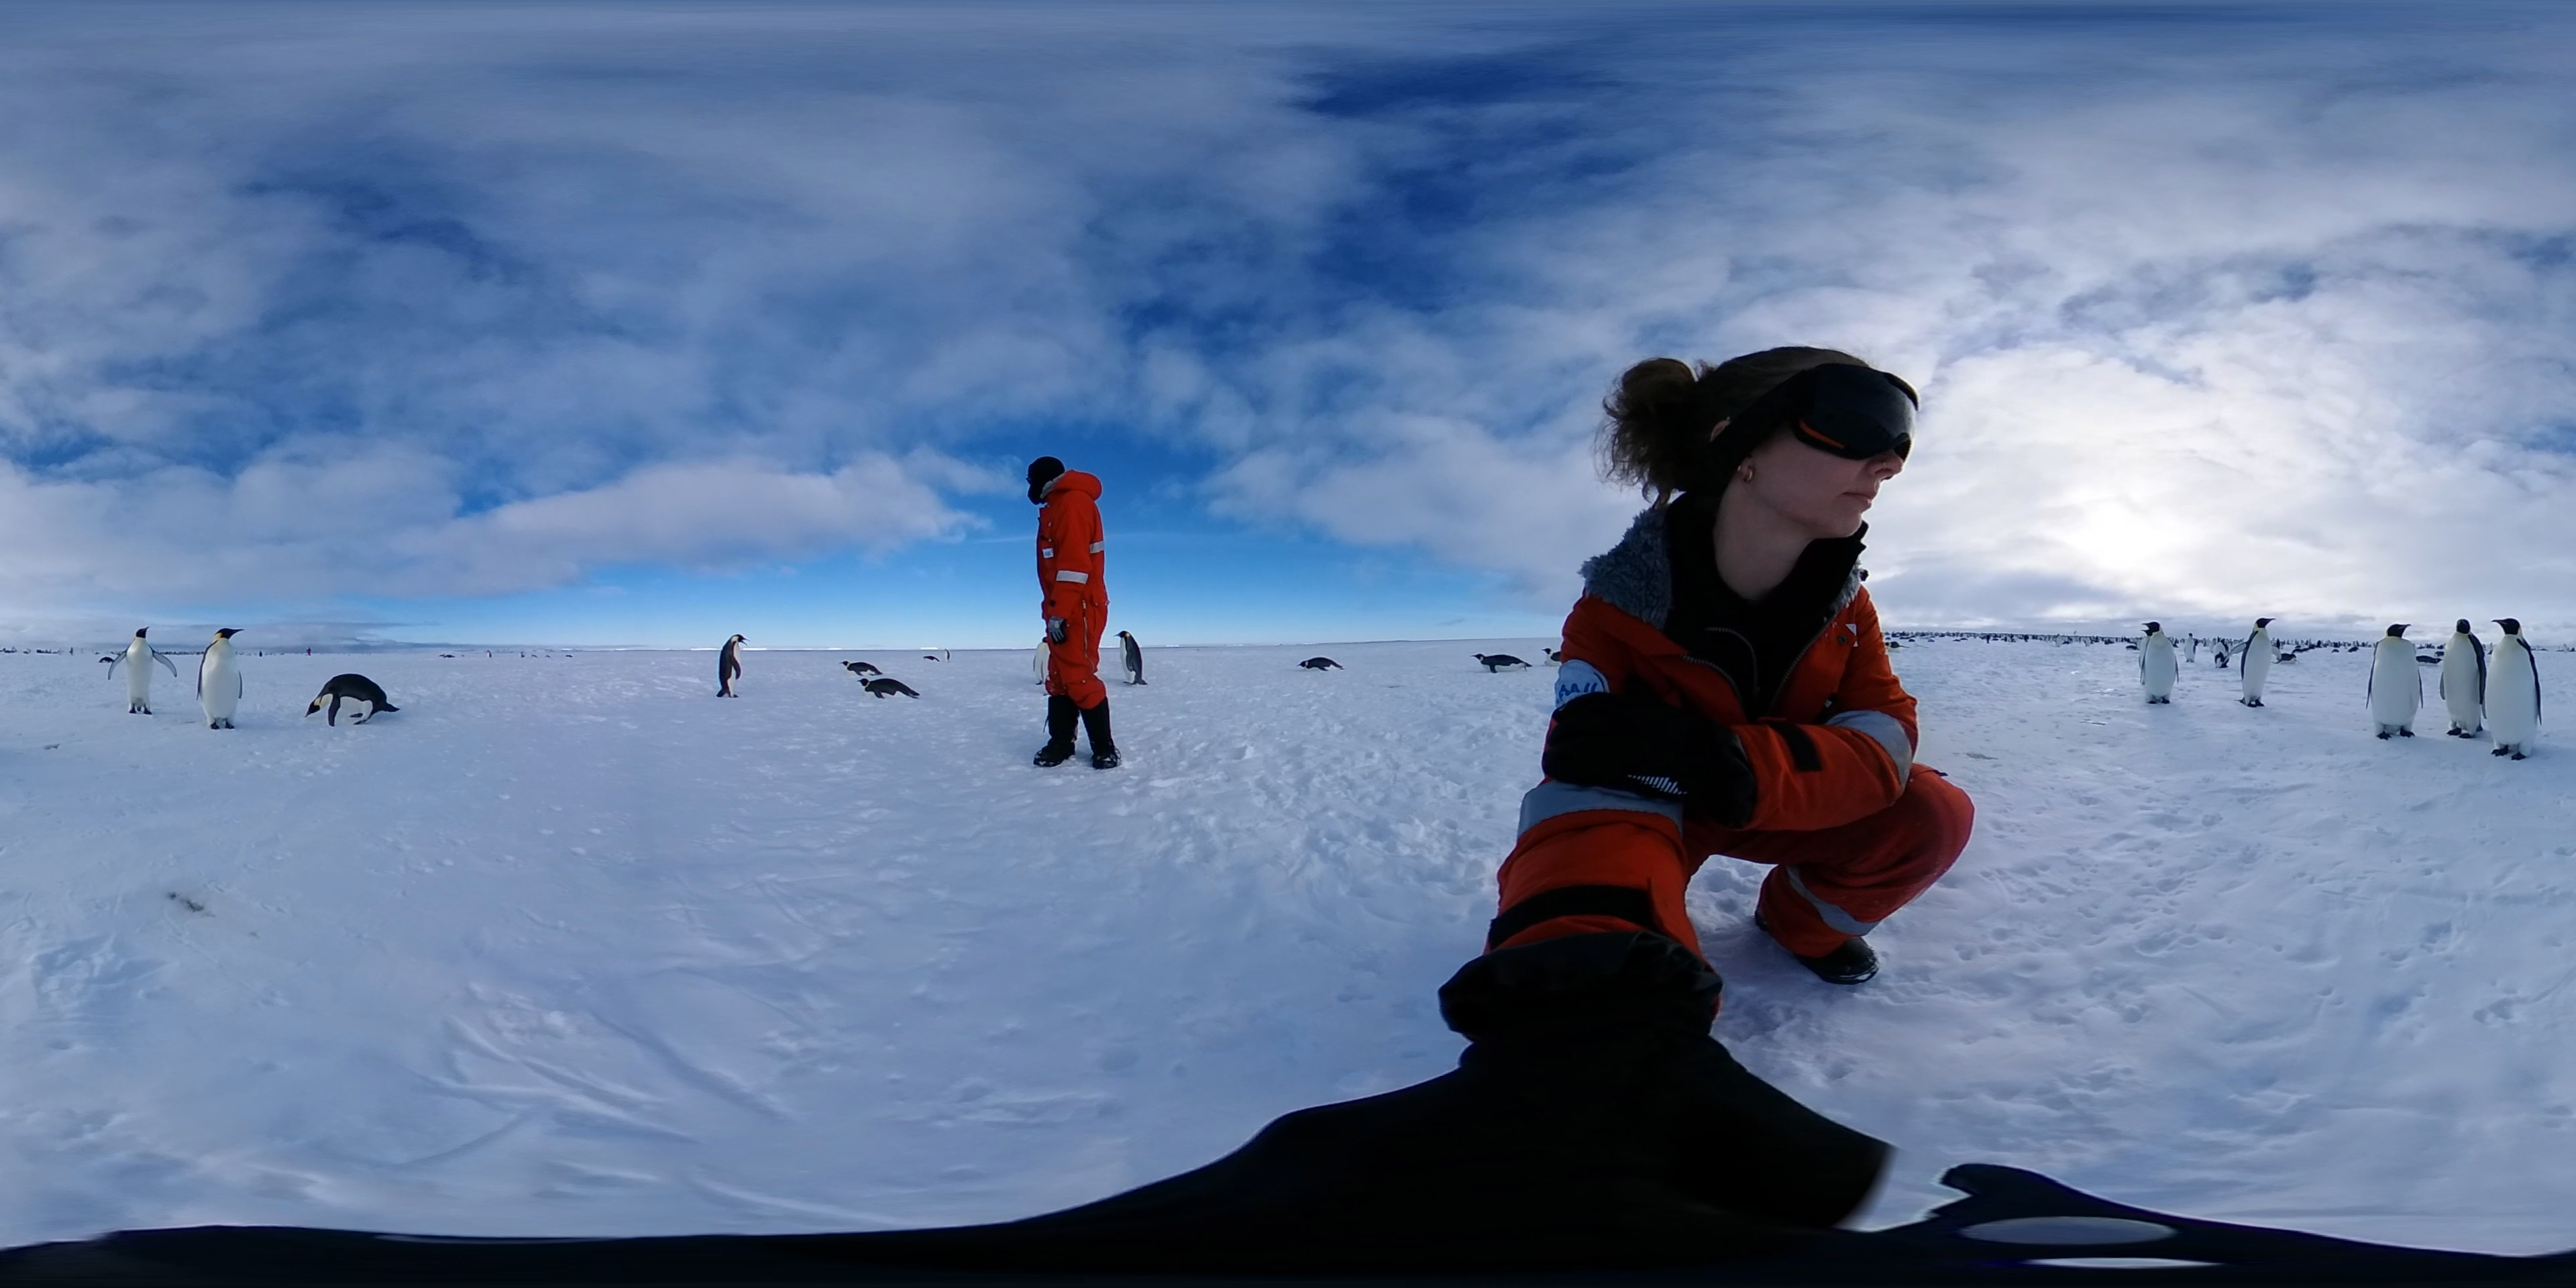adult_standing_penguin: (2477, 611, 2548, 762), (2435, 618, 2495, 741), (105, 624, 181, 718), (2366, 624, 2425, 738), (192, 624, 253, 733), (2218, 614, 2284, 706), (301, 670, 402, 728), (2137, 623, 2183, 705), (710, 632, 754, 701), (1112, 629, 1147, 687), (1032, 634, 1053, 692)
adult_toboggan_penguin: (854, 677, 925, 701), (1470, 652, 1541, 675), (839, 657, 882, 680), (1295, 655, 1347, 672), (1541, 646, 1562, 665), (1883, 641, 1911, 652)
researcher: (1457, 343, 1983, 1040), (1022, 453, 1125, 774)
